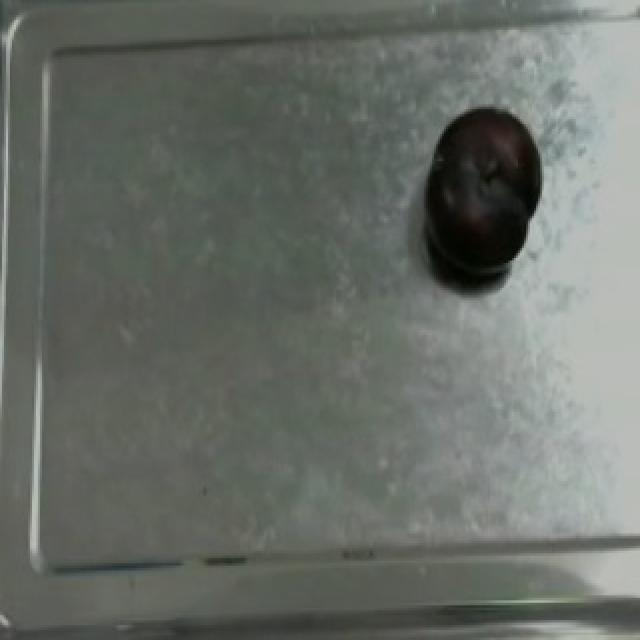Fruit: (416, 91, 550, 292)
